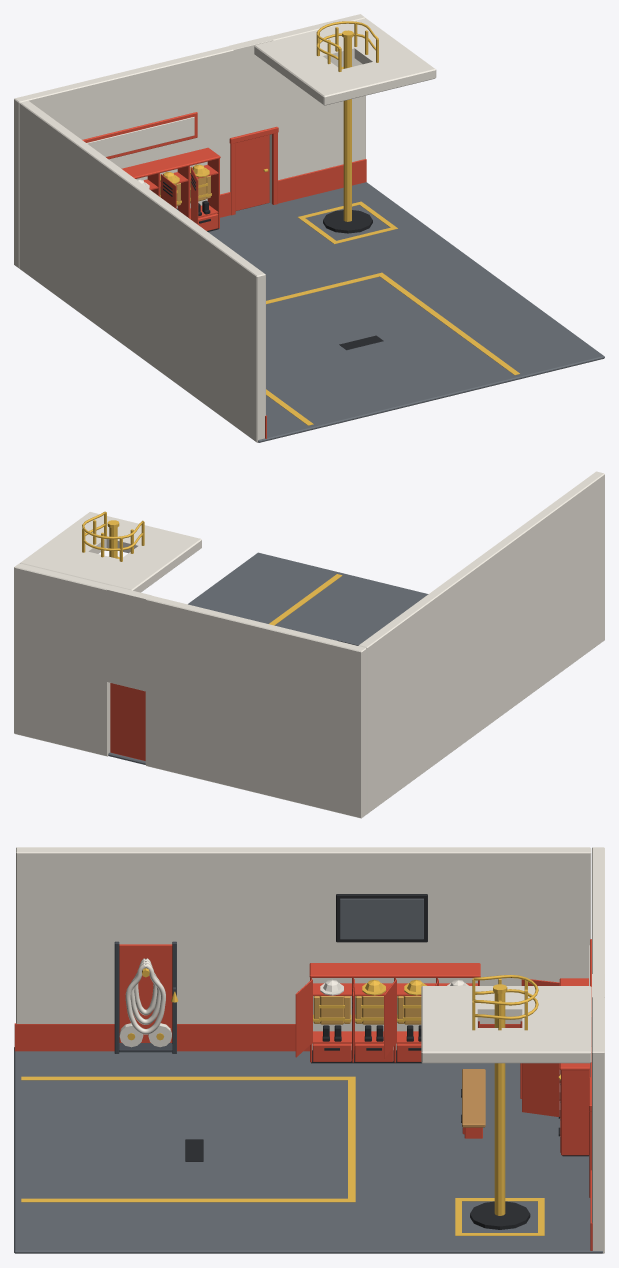
File: fire-station-interior.glb
3 views of the same model, one above another, from view 1: azimuth 30°, elevation 25°; view 2: azimuth 150°, elevation 25°; view 3: azimuth 270°, elevation 25° (orthographic). The views are drawn at different scales.
Visible parts, largest first — view 1: Bay_Floor, Bay_WallLeft, Bay_WallBack_L, Ceiling_Slab, Bay_WallBack_R, Bay_WallBack_Top, Door_Office, Bay_Stripe_Back_R, Sign_Blank_Face, LockerRow_A, Pole, LockerRow_A_Top (+3 smaller); view 2: Bay_WallLeft, Bay_WallBack_L, Bay_WallBack_R, Bay_Floor, Ceiling_Slab, Bay_WallBack_Top, Door_Office; view 3: Bay_Floor, Bay_WallLeft, Ceiling_Slab, Bay_Stripe_Left, Screen_Face, Bay_WallBack_R, Rack_Panel, LockerRow_B_Top, LockerRow_A, Pole, Door_LockerRow_A_5, Line_Lane_R (+15 smaller).
Part boxes in pixels (<box>): Bay_Floor: <box>208,182,604,442</box>; Bay_WallLeft: <box>19,100,265,442</box>; Bay_WallBack_L: <box>14,46,233,268</box>; Ceiling_Slab: <box>254,18,436,105</box>; Bay_WallBack_R: <box>268,14,365,203</box>; Bay_WallBack_Top: <box>229,36,273,136</box>; Door_Office: <box>235,135,269,210</box>; Bay_Stripe_Back_R: <box>278,159,366,203</box>; Sign_Blank_Face: <box>86,117,194,156</box>; LockerRow_A: <box>147,158,219,228</box>; Pole: <box>343,37,351,221</box>; LockerRow_A_Top: <box>121,147,220,178</box>; Bay_WallLeft: <box>358,471,604,813</box>; Bay_WallBack_L: <box>145,595,366,818</box>; Bay_WallBack_R: <box>14,563,111,756</box>; Bay_Floor: <box>108,552,428,764</box>; Ceiling_Slab: <box>20,512,201,592</box>; Bay_WallBack_Top: <box>107,585,150,691</box>; Door_Office: <box>110,683,145,760</box>; Bay_Floor: <box>14,1047,602,1253</box>; Bay_WallLeft: <box>16,847,591,1023</box>; Ceiling_Slab: <box>421,986,591,1063</box>; Bay_Stripe_Left: <box>14,1023,520,1051</box>; Screen_Face: <box>340,898,423,939</box>; Bay_WallBack_R: <box>592,997,604,1253</box>; Rack_Panel: <box>119,944,172,1042</box>; LockerRow_B_Top: <box>309,963,480,977</box>; LockerRow_A: <box>561,1069,589,1155</box>; Pole: <box>494,993,505,1215</box>; Door_LockerRow_A_5: <box>522,1063,559,1116</box>; Line_Lane_R: <box>21,1198,355,1202</box>.
Size of the model in its own units: 37.05 by 19.65 by 45.05.
